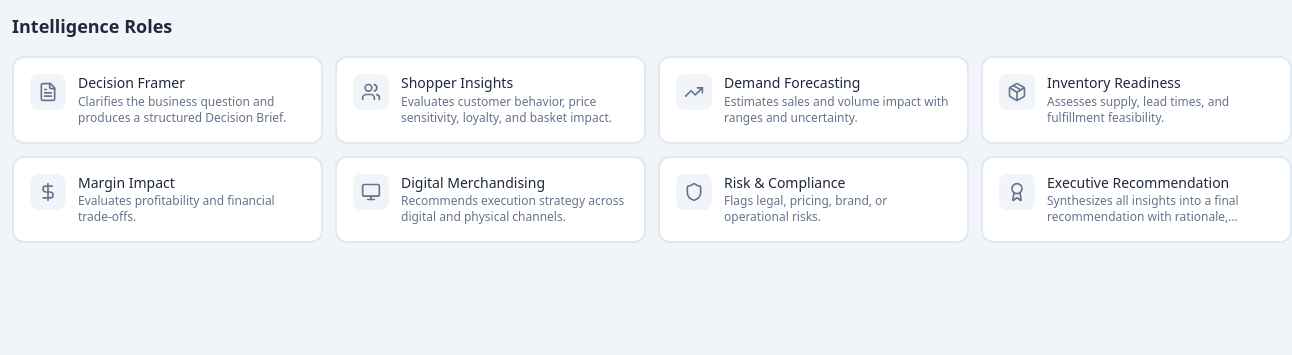
Scenario: IntelligenceGrid › hover expansion behavior › hides expanded content on mouse leave
Note: Hover to show expanded content
Hover over the text "Shopper Insights".
mouse_move(490, 100)  # box x1=335 y1=56 x2=646 y2=144
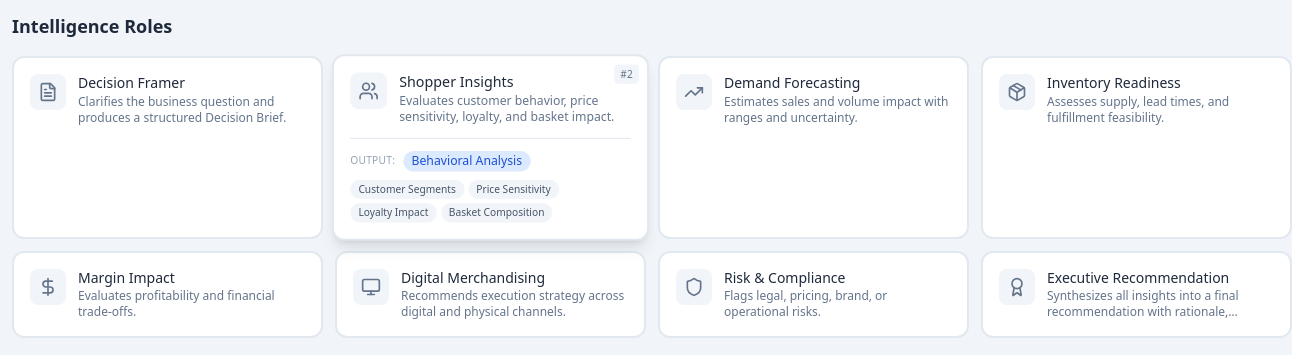
Check: the text "Behavioral Analysis" is shown, box x1=403 y1=151 x2=530 y2=171
Note: Leave to hide expanded content
Move the pointer off the text "Shopper Insights", box x1=332 y1=54 x2=649 y2=240
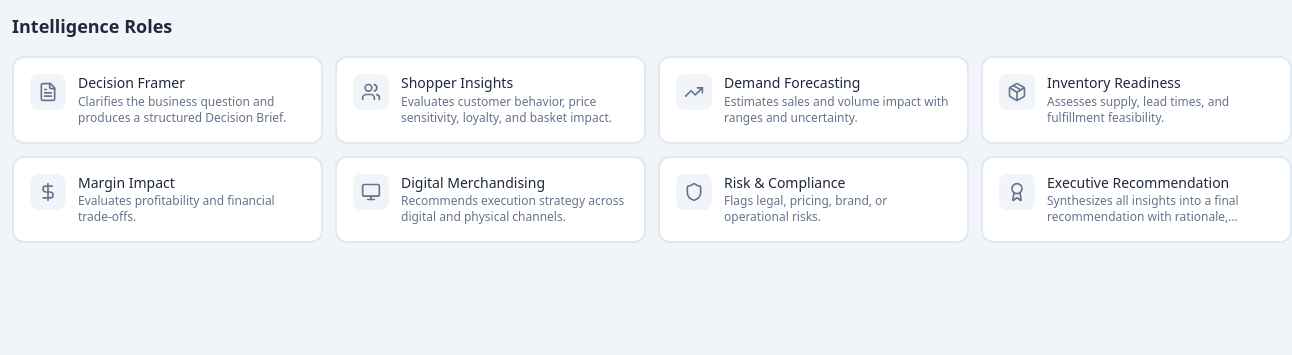
Check: the text "Behavioral Analysis" is gone
